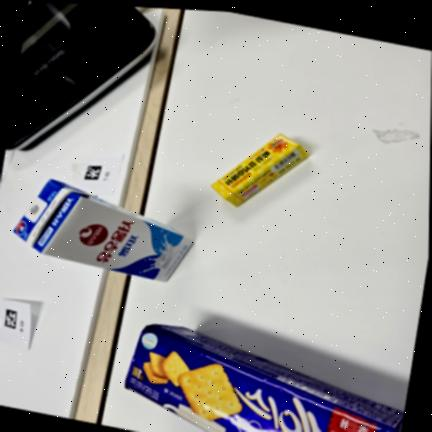cracker_ace: (125, 324, 403, 432)
gum_yellow: (211, 134, 308, 206)
milk_blue: (13, 179, 192, 281)
